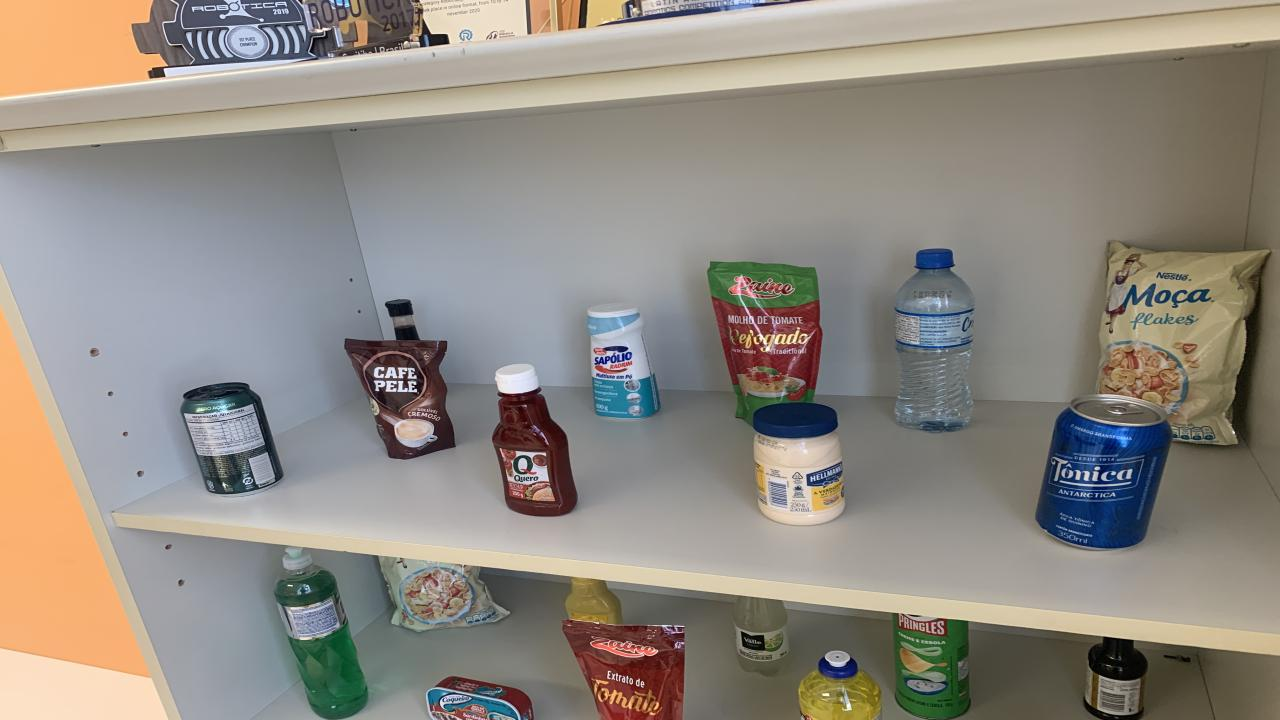Cleaner-Cleanup_Items: (588, 304, 660, 418)
Coffee-Pantry_Items: (345, 339, 455, 459)
Detergent-Cleanup_Items: (275, 546, 368, 718), (380, 557, 510, 632), (798, 651, 882, 720)
English_Sauce-Pantry_Items: (1085, 638, 1148, 720), (385, 300, 420, 341)
Flakes-Snacks: (1098, 242, 1270, 444), (380, 557, 510, 632)
Guarana_Can-Drinks: (180, 382, 282, 495)
Ketchup-Pantry_Items: (492, 364, 578, 516)
Mayonnaise-Pantry_Items: (752, 403, 845, 525)
Mustard-Pantry_Items: (565, 578, 622, 624)
Pringles-Snacks: (892, 613, 970, 718)
Soda-Drinks: (732, 596, 790, 677)
Tomato_Sauce-Pantry_Items: (708, 262, 822, 422), (562, 621, 685, 720)
Tonic-Drinks: (1035, 394, 1172, 549)
Tuna_Can-Pantry_Items: (425, 677, 535, 720)
Water_Bottle-Drinks: (895, 249, 975, 431)
